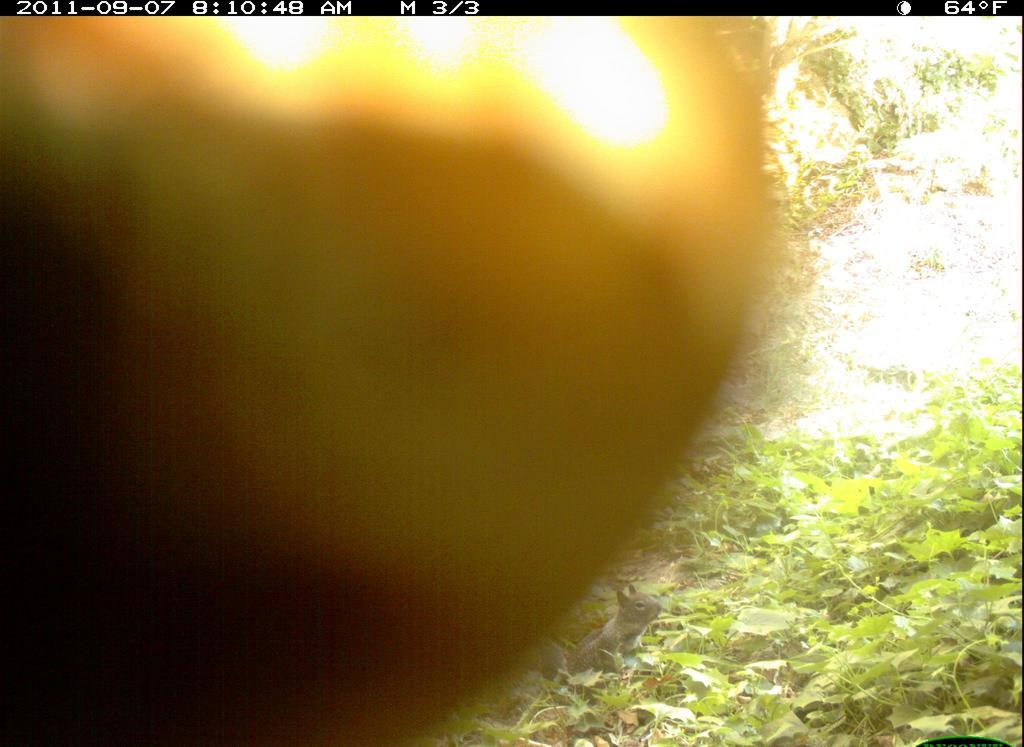squirrel: (1, 21, 806, 747), (527, 575, 674, 688)
